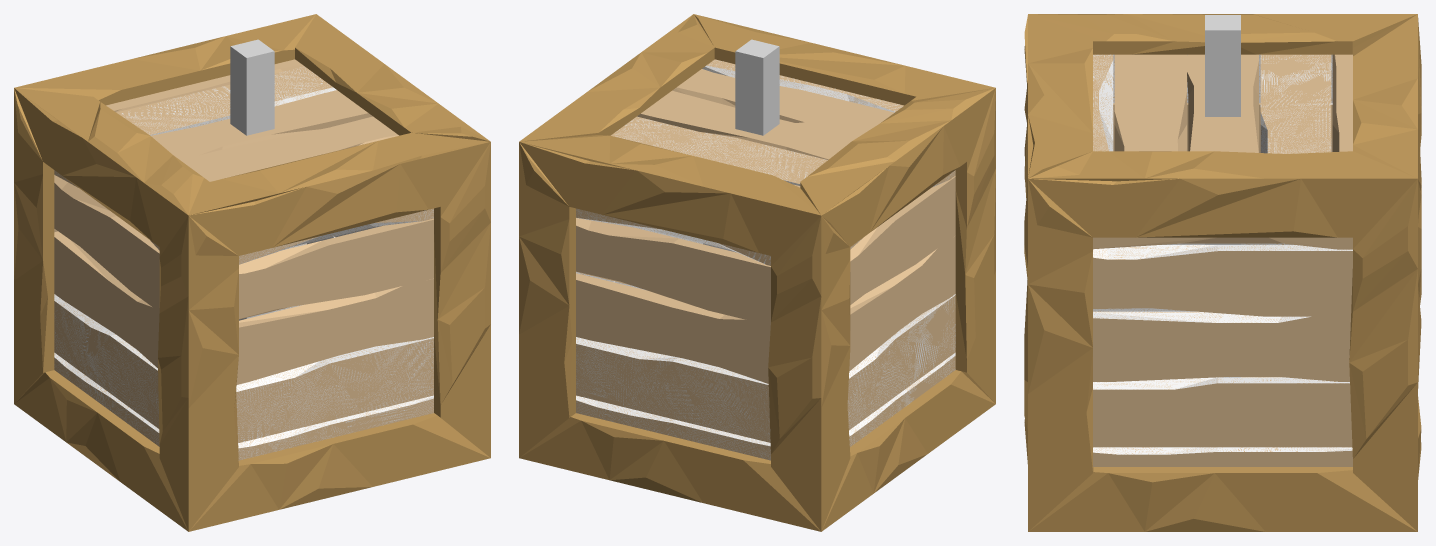
The model's file is Box_withHoles.fbx.
3 renders of one model, left to right at view 1: azimuth 30°, elevation 25°; view 2: azimuth 150°, elevation 25°; view 3: azimuth 270°, elevation 25°, orthographic. The views are drawn at different scales.
Parts seen in each view (by area): view 1: Mesh15, Mesh26, Mesh10, Mesh11, Mesh12, Mesh14, Mesh13, Mesh30, Mesh27, Mesh9, Mesh6, Mesh28 (+4 smaller); view 2: Mesh1, Mesh26, Mesh10, Mesh2, Mesh5, Mesh3, Mesh4, Mesh28, Mesh27, Mesh9, Mesh8, Mesh30 (+4 smaller); view 3: Mesh25, Mesh10, Mesh21, Mesh22, Mesh23, Mesh24, Mesh7, Mesh9, Mesh6, Mesh8, Cube, Mesh26 (+3 smaller).
Part boxes in pixels (<box>): Mesh15: <box>236,208,433,460</box>; Mesh26: <box>54,170,159,446</box>; Mesh10: <box>106,59,398,181</box>; Mesh11: <box>189,413,490,531</box>; Mesh12: <box>434,142,490,457</box>; Mesh14: <box>188,216,238,531</box>; Mesh13: <box>189,142,490,255</box>; Mesh30: <box>14,88,54,403</box>; Mesh27: <box>14,370,188,531</box>; Mesh9: <box>295,14,490,141</box>; Mesh6: <box>15,14,315,105</box>; Mesh28: <box>158,216,188,531</box>; Mesh1: <box>576,208,770,460</box>; Mesh26: <box>847,170,955,446</box>; Mesh10: <box>611,59,903,187</box>; Mesh2: <box>519,413,820,531</box>; Mesh5: <box>519,142,575,457</box>; Mesh3: <box>768,216,821,531</box>; Mesh4: <box>519,142,820,255</box>; Mesh28: <box>955,88,995,403</box>; Mesh27: <box>821,370,995,531</box>; Mesh9: <box>519,14,714,141</box>; Mesh8: <box>694,14,994,105</box>; Mesh30: <box>821,216,850,531</box>; Mesh25: <box>1093,237,1352,466</box>; Mesh10: <box>1093,54,1352,153</box>; Mesh21: <box>1028,467,1417,531</box>; Mesh22: <box>1349,179,1417,531</box>; Mesh23: <box>1028,178,1417,237</box>; Mesh24: <box>1028,179,1092,531</box>; Mesh7: <box>1029,14,1416,54</box>; Mesh9: <box>1028,151,1416,181</box>; Mesh6: <box>1353,14,1417,178</box>; Mesh8: <box>1028,14,1092,178</box>; Cube: <box>1205,15,1240,377</box>; Mesh26: <box>1093,54,1332,311</box>.
Bounding box in the file's own units: 550 × 714 × 550.
